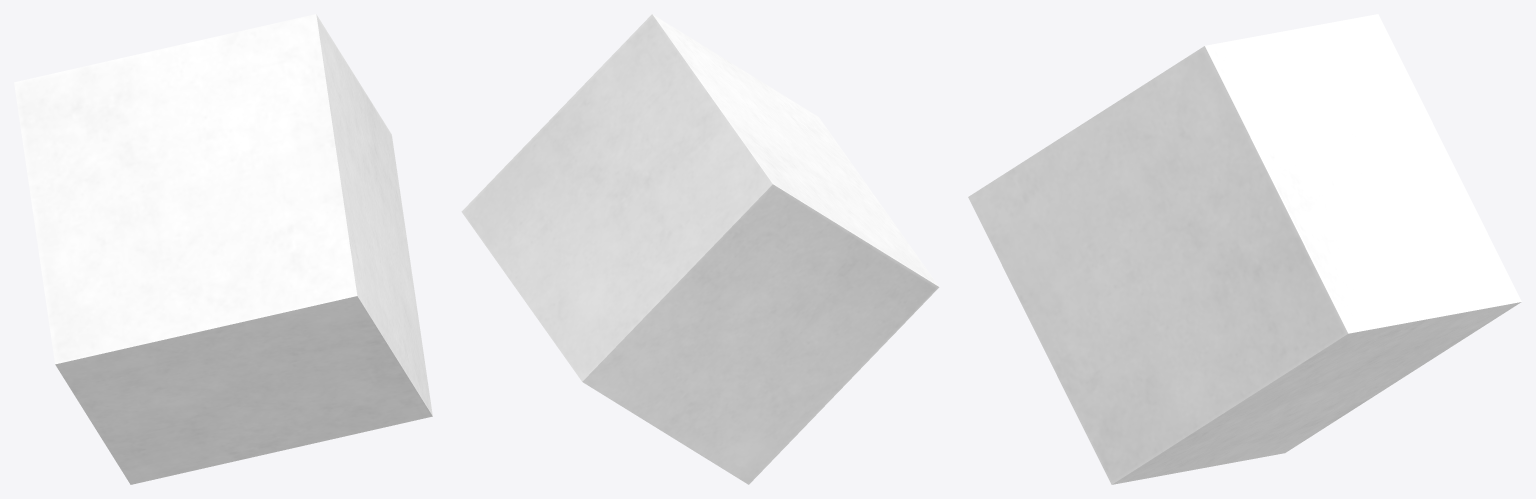
3 renders of one model, left to right at view 1: azimuth 30°, elevation 25°; view 2: azimuth 150°, elevation 25°; view 3: azimuth 270°, elevation 25°, orthographic. The views are drawn at different scales.
Visible parts, largest first — view 1: Cube.008; view 2: Cube.008; view 3: Cube.008.
Boxes of the visible parts, bbox=[...] form: Cube.008: bbox=[14, 14, 432, 484]; Cube.008: bbox=[461, 14, 939, 484]; Cube.008: bbox=[968, 14, 1521, 484].
Size of the model in its own units: 1.74 by 1.76 by 1.84.
Materials: 1 (1 with a texture image).
